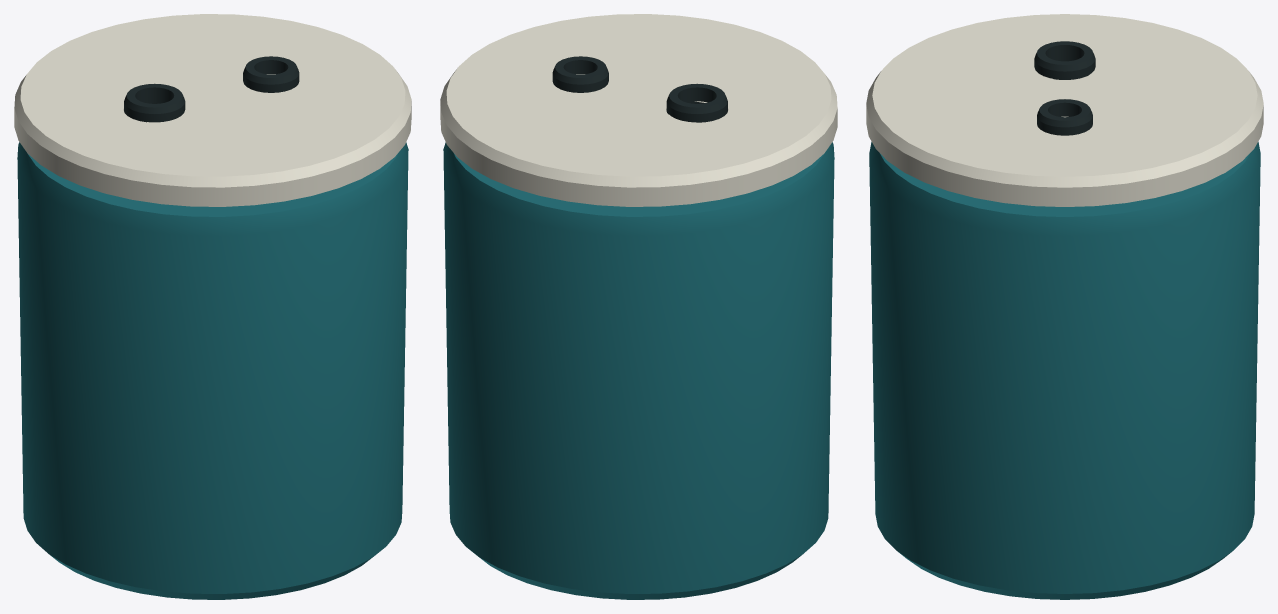
The model's file is VLAB_calorimeter.fbx.
3 views of the same model, side by side, from view 1: azimuth 30°, elevation 25°; view 2: azimuth 150°, elevation 25°; view 3: azimuth 270°, elevation 25° (orthographic).
Visible parts, largest first — view 1: VLAB_calorimeter_OuterShell_VIS, VLAB_calorimeter_Lid_VIS, VLAB_calorimeter_ProbeSocket_VIS, VLAB_calorimeter_StirSocket_VIS; view 2: VLAB_calorimeter_OuterShell_VIS, VLAB_calorimeter_Lid_VIS, VLAB_calorimeter_ProbeSocket_VIS, VLAB_calorimeter_StirSocket_VIS; view 3: VLAB_calorimeter_OuterShell_VIS, VLAB_calorimeter_Lid_VIS, VLAB_calorimeter_ProbeSocket_VIS, VLAB_calorimeter_StirSocket_VIS.
Part boxes in pixels (<box>): VLAB_calorimeter_OuterShell_VIS: <box>17,142,408,599</box>; VLAB_calorimeter_Lid_VIS: <box>14,14,411,206</box>; VLAB_calorimeter_ProbeSocket_VIS: <box>124,83,185,122</box>; VLAB_calorimeter_StirSocket_VIS: <box>243,56,299,92</box>; VLAB_calorimeter_OuterShell_VIS: <box>443,142,834,599</box>; VLAB_calorimeter_Lid_VIS: <box>440,14,837,206</box>; VLAB_calorimeter_ProbeSocket_VIS: <box>666,83,727,122</box>; VLAB_calorimeter_StirSocket_VIS: <box>552,56,608,92</box>; VLAB_calorimeter_OuterShell_VIS: <box>869,142,1260,599</box>; VLAB_calorimeter_Lid_VIS: <box>866,14,1263,206</box>; VLAB_calorimeter_ProbeSocket_VIS: <box>1034,41,1095,79</box>; VLAB_calorimeter_StirSocket_VIS: <box>1037,99,1092,135</box>.
Bounding box in the file's own units: 0.065 × 0.08 × 0.065.
